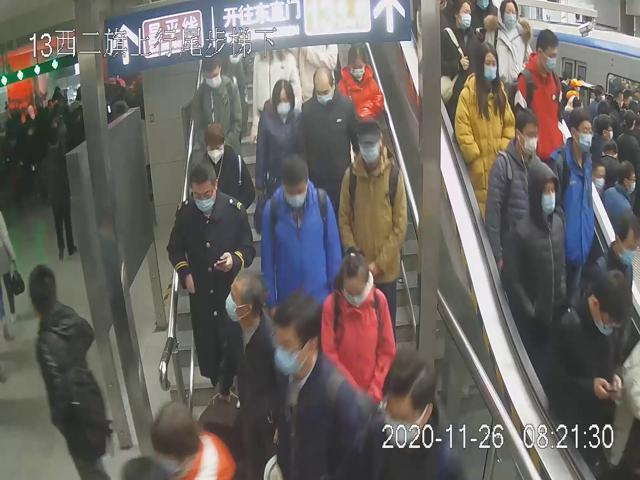person: (167, 159, 251, 404), (270, 284, 372, 480), (338, 117, 411, 337), (257, 151, 343, 316), (215, 267, 279, 449), (320, 247, 393, 401), (503, 156, 567, 328), (455, 40, 517, 216), (485, 104, 547, 276), (551, 104, 596, 292), (303, 62, 358, 194), (512, 25, 565, 151), (257, 76, 306, 195), (193, 54, 243, 156), (198, 122, 255, 207), (339, 43, 385, 123)
